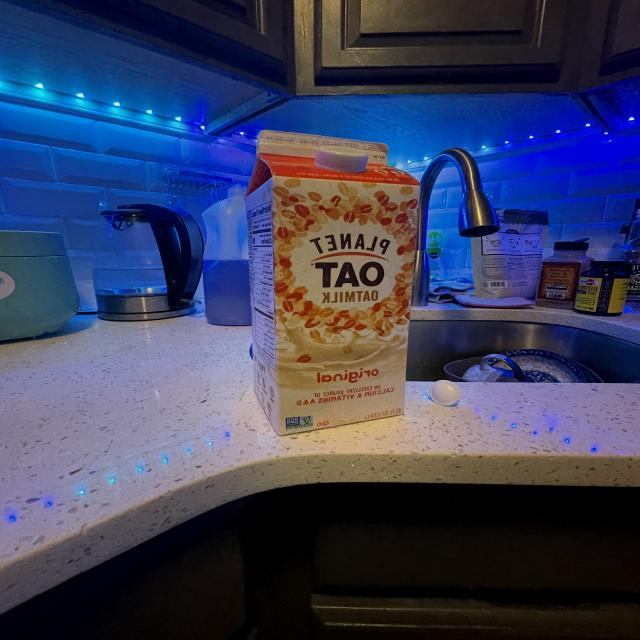Planet Oat Original: (236, 128, 426, 442)
